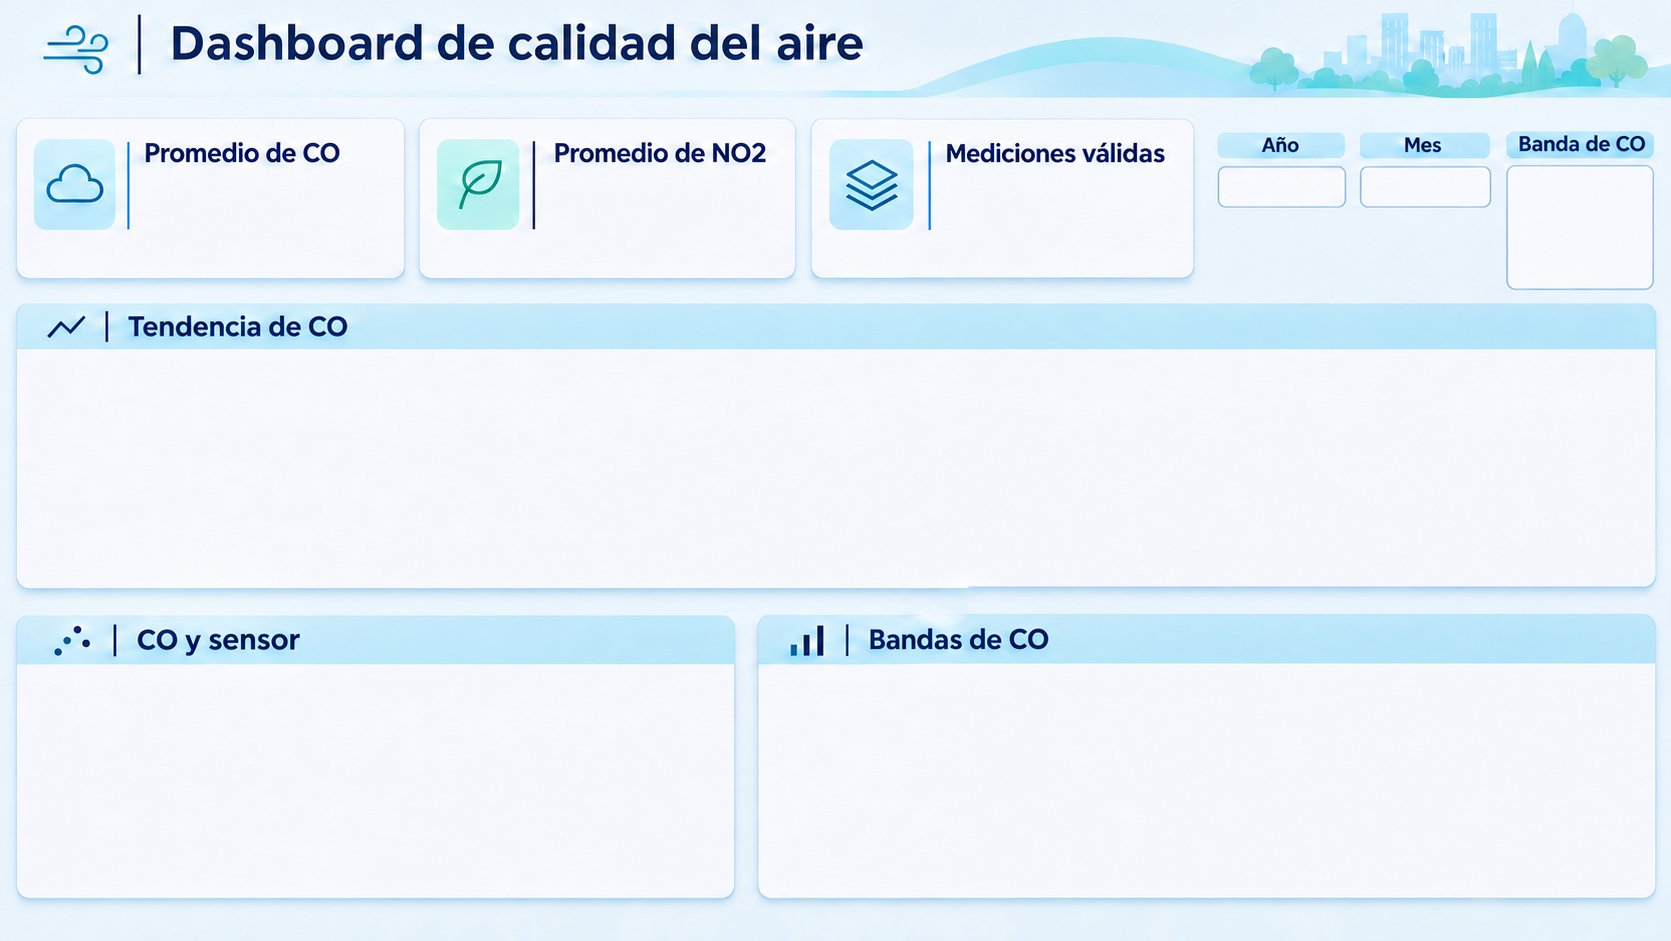

What the dashboard file says about the page in this screenshot:
{"tool":"powerbi","page":{"name":"Página 1","canvas":[1920,1080],"ordinal":0},"visuals":[{"type":"cardVisual","fields":{"Data":["Avg(hecho_calidad_aire.co_gt)"]},"box":[425.1,120.9,300,300],"z":0},{"type":"cardVisual","fields":{"Data":["Avg(hecho_calidad_aire.no2_gt)"]},"box":[74.7,120.9,300,300],"z":1000},{"type":"clusteredColumnChart","fields":{"Category":["hecho_calidad_aire.banda_co"],"Y":["CountNonNull(hecho_calidad_aire.banda_co)"]},"box":[758.7,120.9,300,300],"z":2000},{"type":"scatterChart","fields":{"Category":["hecho_calidad_aire.medicion_id"],"X":["Sum(hecho_calidad_aire.co_gt)"],"Y":["Sum(hecho_calidad_aire.pt08_s1_co)"]},"box":[1088,120,300,300],"z":3000},{"type":"slicer","fields":{"Values":["dim_tiempo.anio"]},"box":[74,432,300,300],"z":4000},{"type":"slicer","fields":{"Values":["dim_tiempo.mes"]},"box":[425,431,300,300],"z":5000},{"type":"slicer","fields":{"Values":["hecho_calidad_aire.banda_co"]},"box":[788.2,461.2,300,300],"z":6000},{"type":"textbox","box":[1398,120,300,300],"z":7000}]}

Visuals, with their boxes in screenshot pixels (x1, y1, x2, y2), scaled from the page's 1920x1080 canvas onto the 1671x941 screenshot:
cardVisual - Avg(hecho_calidad_aire.co_gt): {"left": 370, "top": 105, "right": 631, "bottom": 367}
cardVisual - Avg(hecho_calidad_aire.no2_gt): {"left": 65, "top": 105, "right": 326, "bottom": 367}
clusteredColumnChart - hecho_calidad_aire.banda_co x CountNonNull(hecho_calidad_aire.banda_co): {"left": 660, "top": 105, "right": 921, "bottom": 367}
scatterChart - hecho_calidad_aire.medicion_id x Sum(hecho_calidad_aire.co_gt): {"left": 947, "top": 105, "right": 1208, "bottom": 366}
slicer - dim_tiempo.anio: {"left": 64, "top": 376, "right": 325, "bottom": 638}
slicer - dim_tiempo.mes: {"left": 370, "top": 376, "right": 631, "bottom": 637}
slicer - hecho_calidad_aire.banda_co: {"left": 686, "top": 402, "right": 947, "bottom": 663}
textbox: {"left": 1217, "top": 105, "right": 1478, "bottom": 366}
